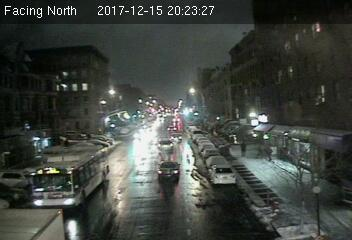bus: (26, 144, 109, 207)
car: (209, 165, 235, 186), (156, 160, 180, 177), (157, 138, 174, 150)
